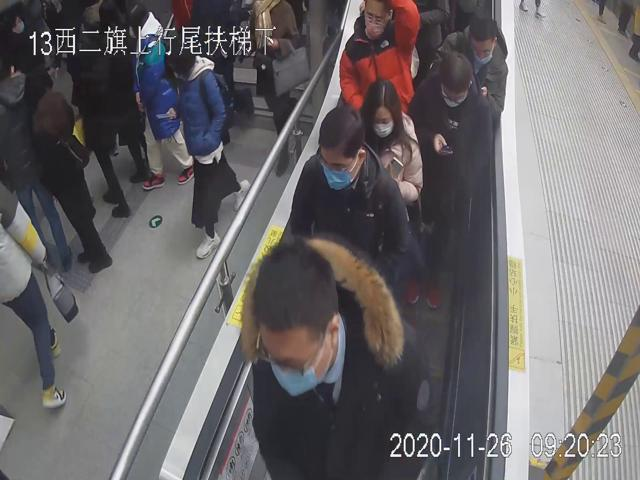person: (240, 236, 436, 480), (410, 50, 490, 310), (290, 104, 412, 270), (338, 0, 419, 117), (427, 11, 508, 126), (355, 77, 422, 208)
